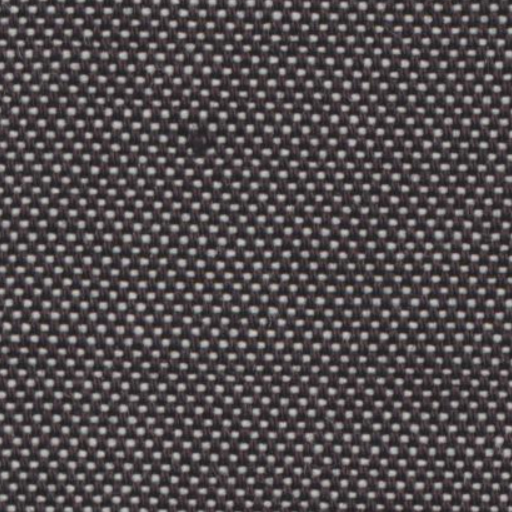MianQiu: (174, 122, 228, 170)
